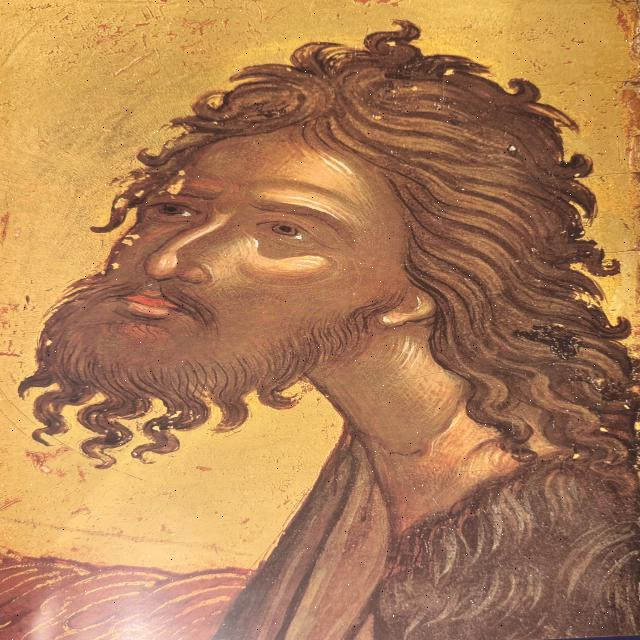saint: (1, 25, 633, 640)
